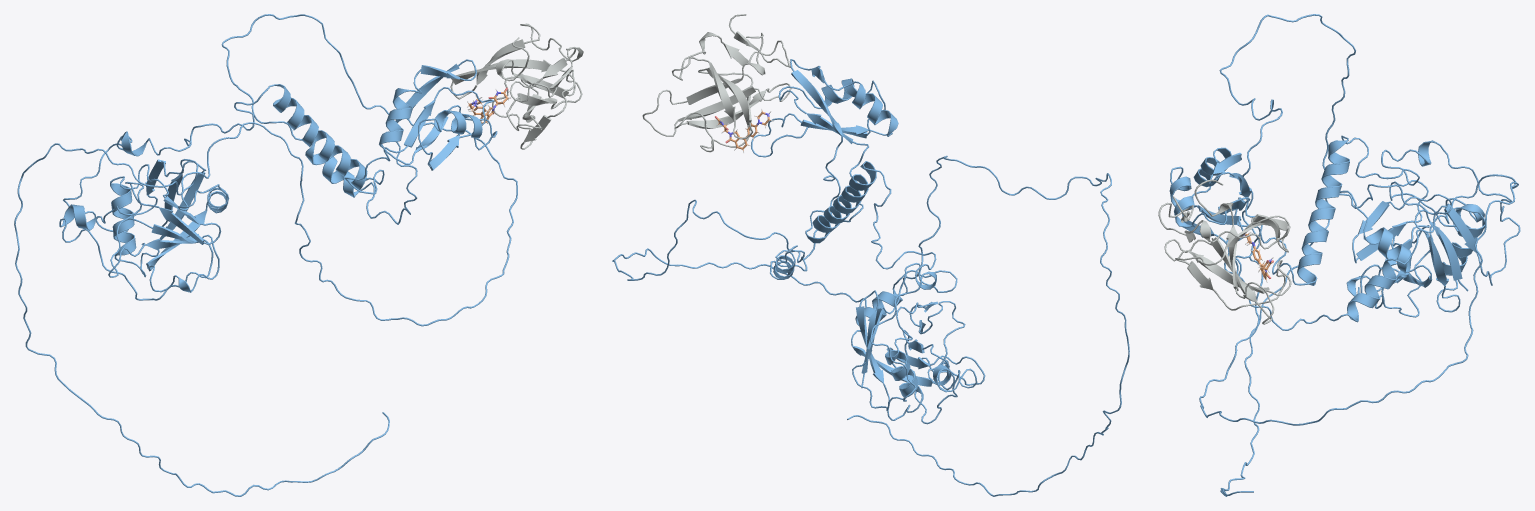
File: Z6466608628_positive_control.glb
3 views of the same model, side by side, from view 1: azimuth 30°, elevation 25°; view 2: azimuth 150°, elevation 25°; view 3: azimuth 270°, elevation 25° (orthographic). The views are drawn at different scales.
Parts seen in each view (by area): view 1: node-geom97, node-geom98; view 2: node-geom97, node-geom98; view 3: node-geom97, node-geom98.
Boxes of the visible parts, box(x1,y1,x2,y2) form: node-geom97: box(59, 23, 583, 300); node-geom98: box(14, 14, 517, 496); node-geom97: box(642, 14, 985, 424); node-geom98: box(612, 59, 1129, 496); node-geom97: box(1158, 135, 1520, 324); node-geom98: box(1169, 14, 1518, 496).
Size of the model in its own units: 142 by 102 by 80.63.
